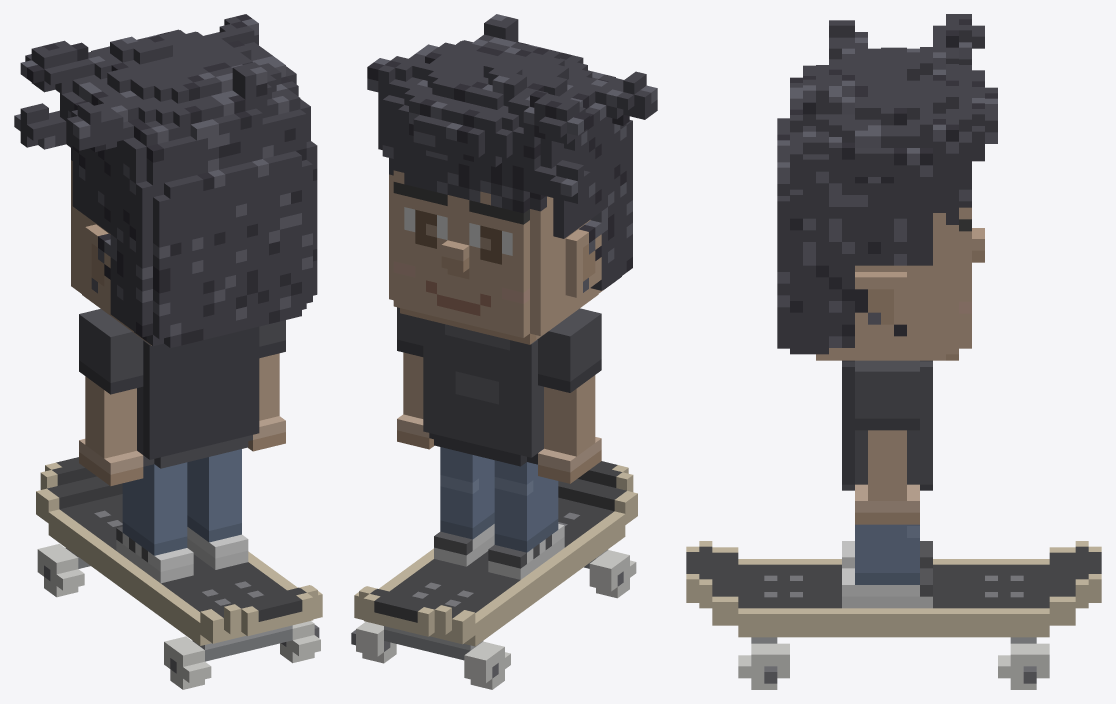
Rendered from BenjiniSkatini.glb.
The picture shows the model from 3 angles, left to right: view 1: azimuth 30°, elevation 25°; view 2: azimuth 150°, elevation 25°; view 3: azimuth 270°, elevation 25°; orthographic projection. The views are drawn at different scales.
Visible parts, largest first — view 1: geometry_0; view 2: geometry_0; view 3: geometry_0.
Boxes of the visible parts, x1=… form: geometry_0: x1=14, y1=14, x2=322, y2=689; geometry_0: x1=351, y1=14, x2=657, y2=689; geometry_0: x1=686, y1=14, x2=1101, y2=689.
Size of the model in its own units: 0.42 by 1 by 0.64.
